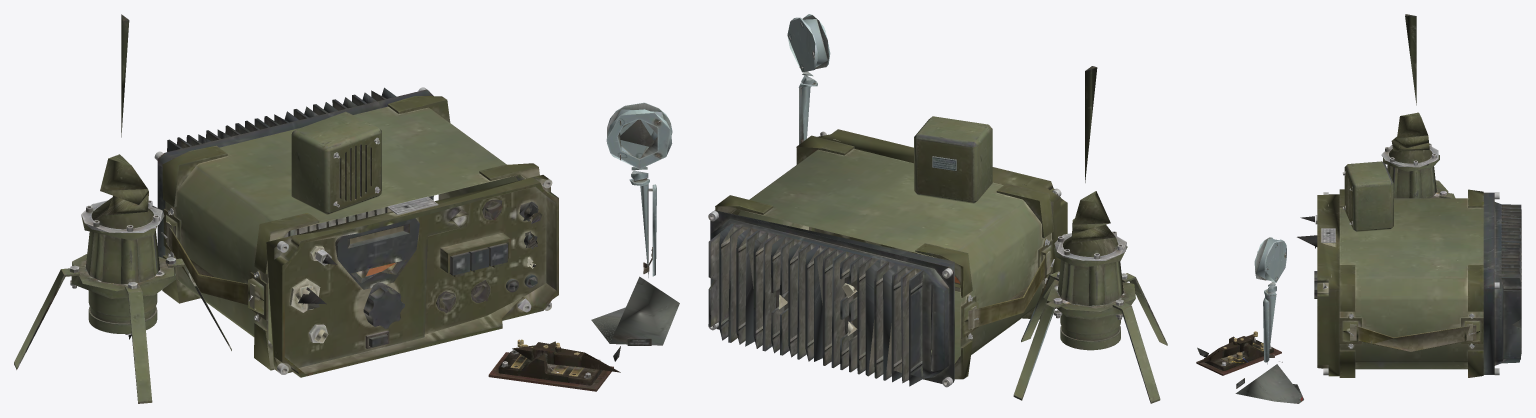
Rendered from radio.glb.
3 renders of one model, left to right at view 1: azimuth 30°, elevation 25°; view 2: azimuth 150°, elevation 25°; view 3: azimuth 270°, elevation 25°, orthographic. The views are drawn at different scales.
Visible parts, largest first — view 1: vintage_radio_transceiver, vintage_radio_transceiver_cable; view 2: vintage_radio_transceiver, vintage_radio_transceiver_cable; view 3: vintage_radio_transceiver, vintage_radio_transceiver_cable.
Part boxes in pixels (x1,y1,x2,y2): vintage_radio_transceiver: (154,87,558,377); vintage_radio_transceiver_cable: (14,14,679,403); vintage_radio_transceiver: (708,129,1067,387); vintage_radio_transceiver_cable: (787,14,1167,403); vintage_radio_transceiver: (1314,189,1521,377); vintage_radio_transceiver_cable: (1196,14,1455,403).
Bounding box in the file's own units: 0.5631 × 0.3317 × 0.4102.
Materials: 2 (2 with a texture image).
